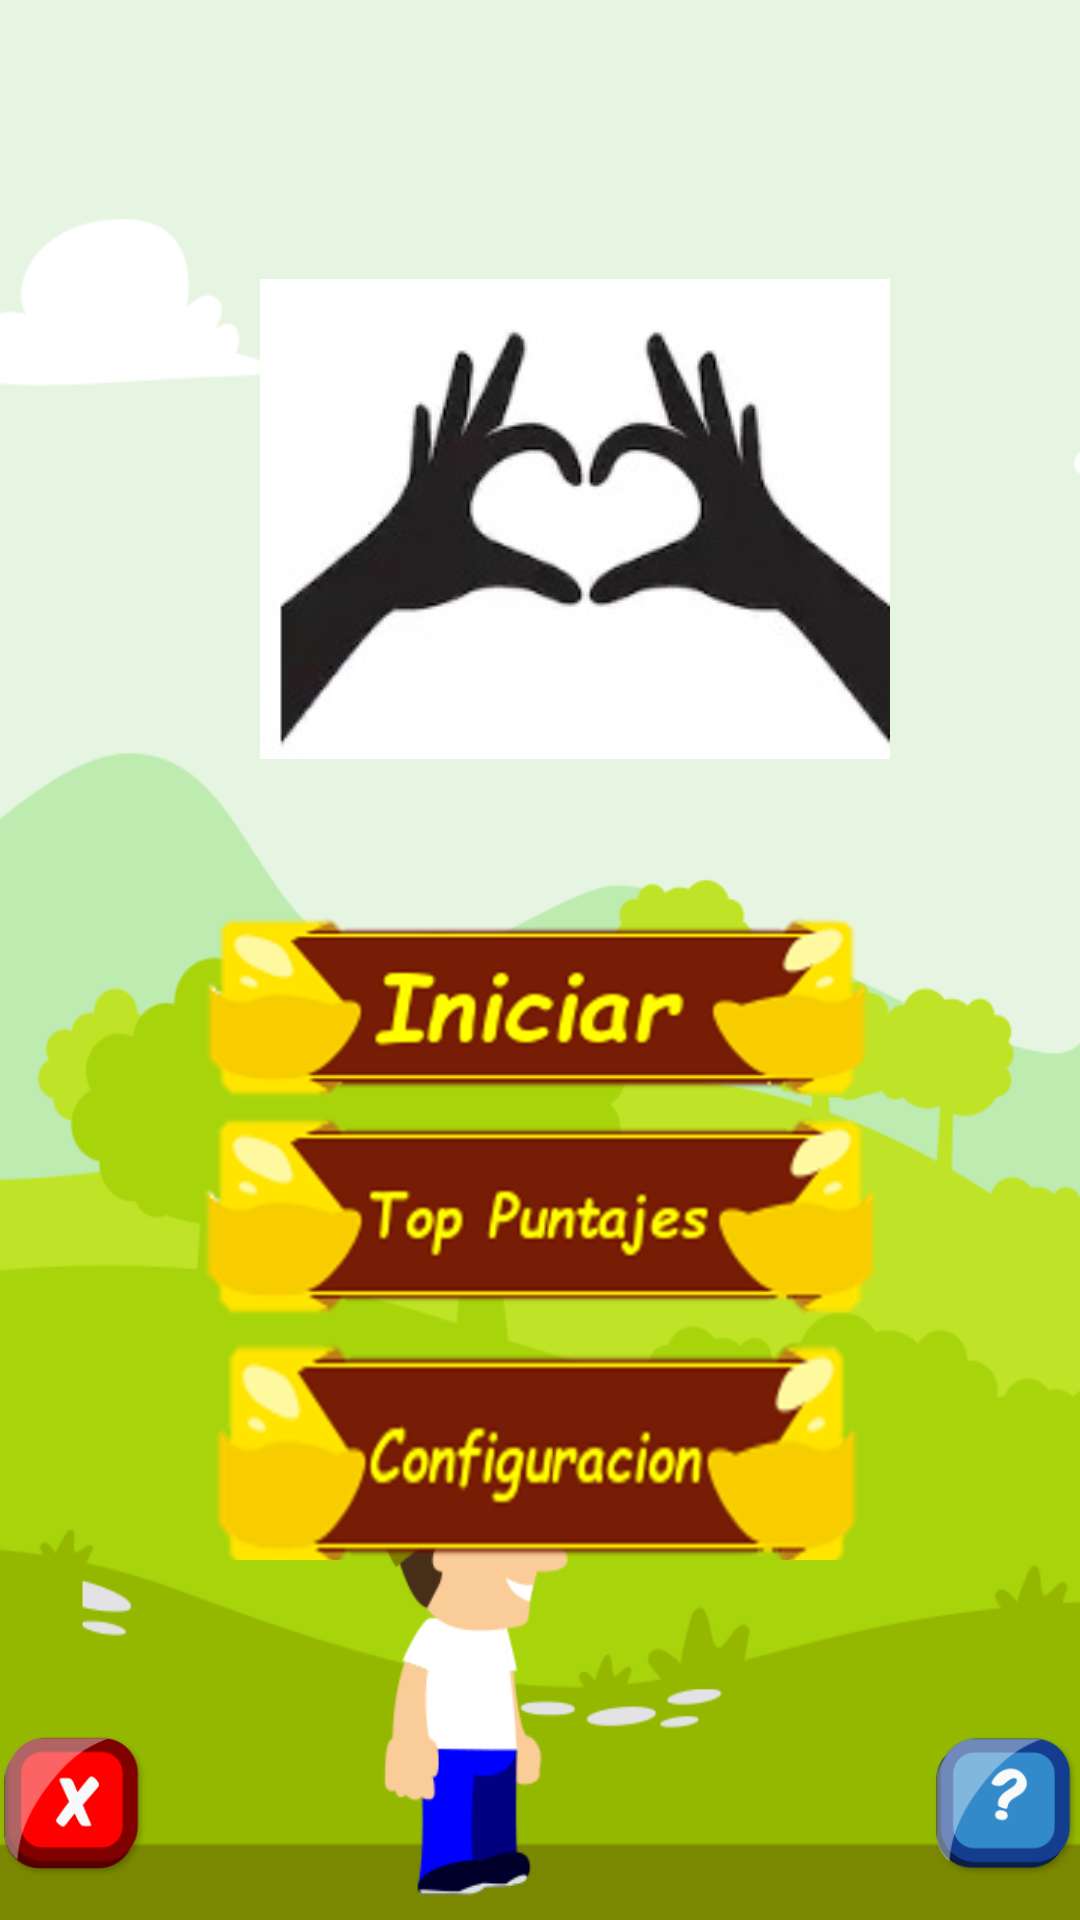

Where to tap for icons on this 1080x1920 app screen, as point (x, y):
info: point (1005, 1806)
salir: point (74, 1806)
